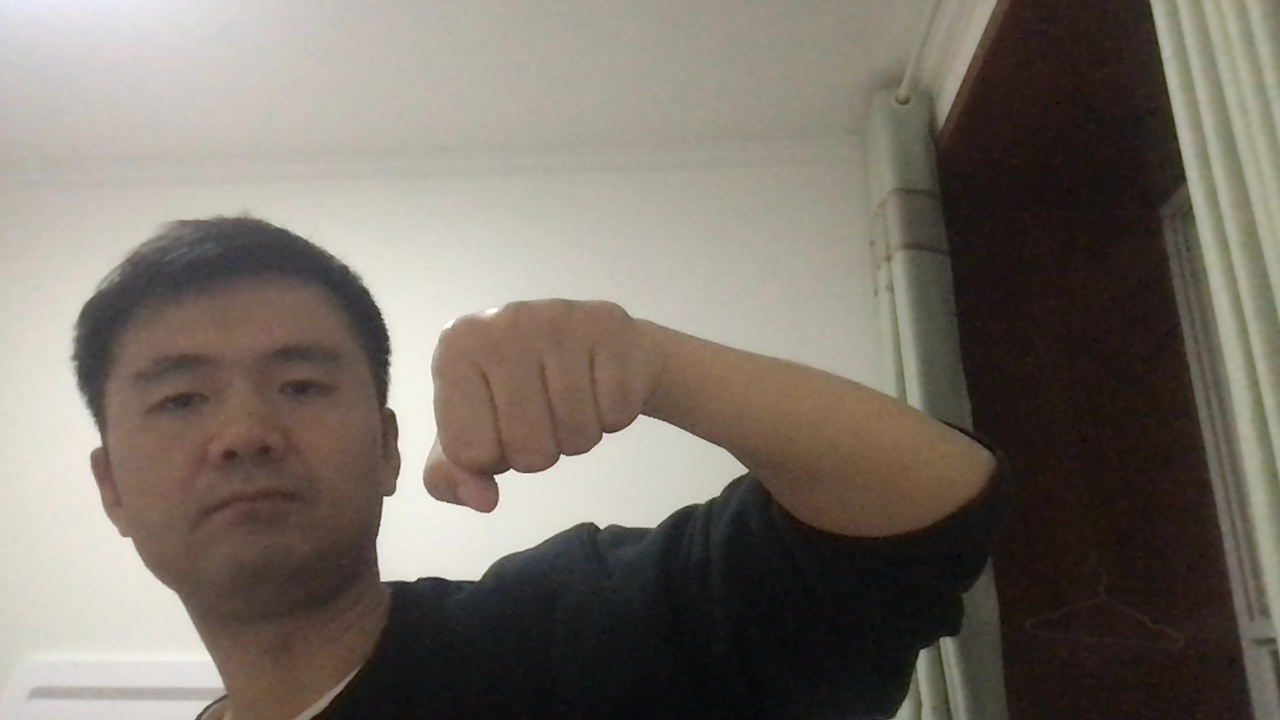ok: (415, 293, 683, 515)
